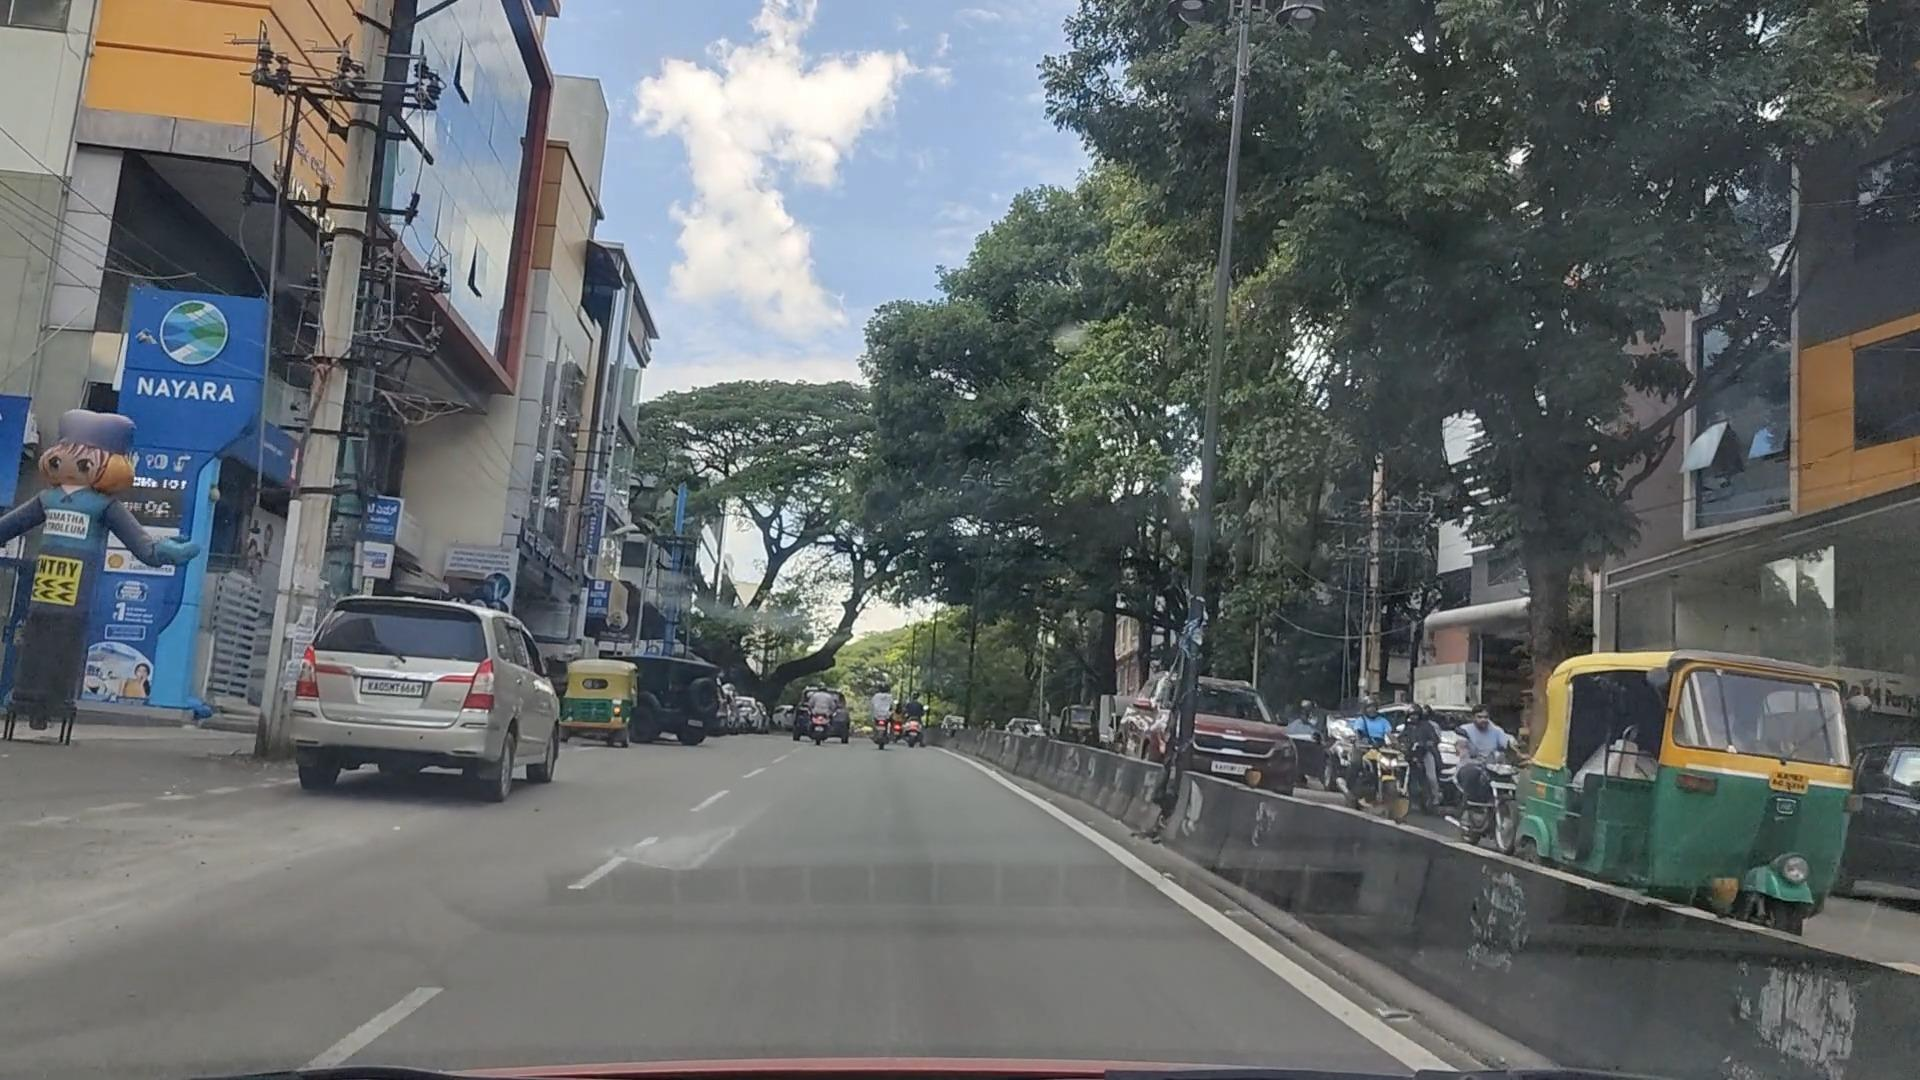LMV: (320, 580, 578, 820)
RoadDamages: (613, 796, 761, 893)
